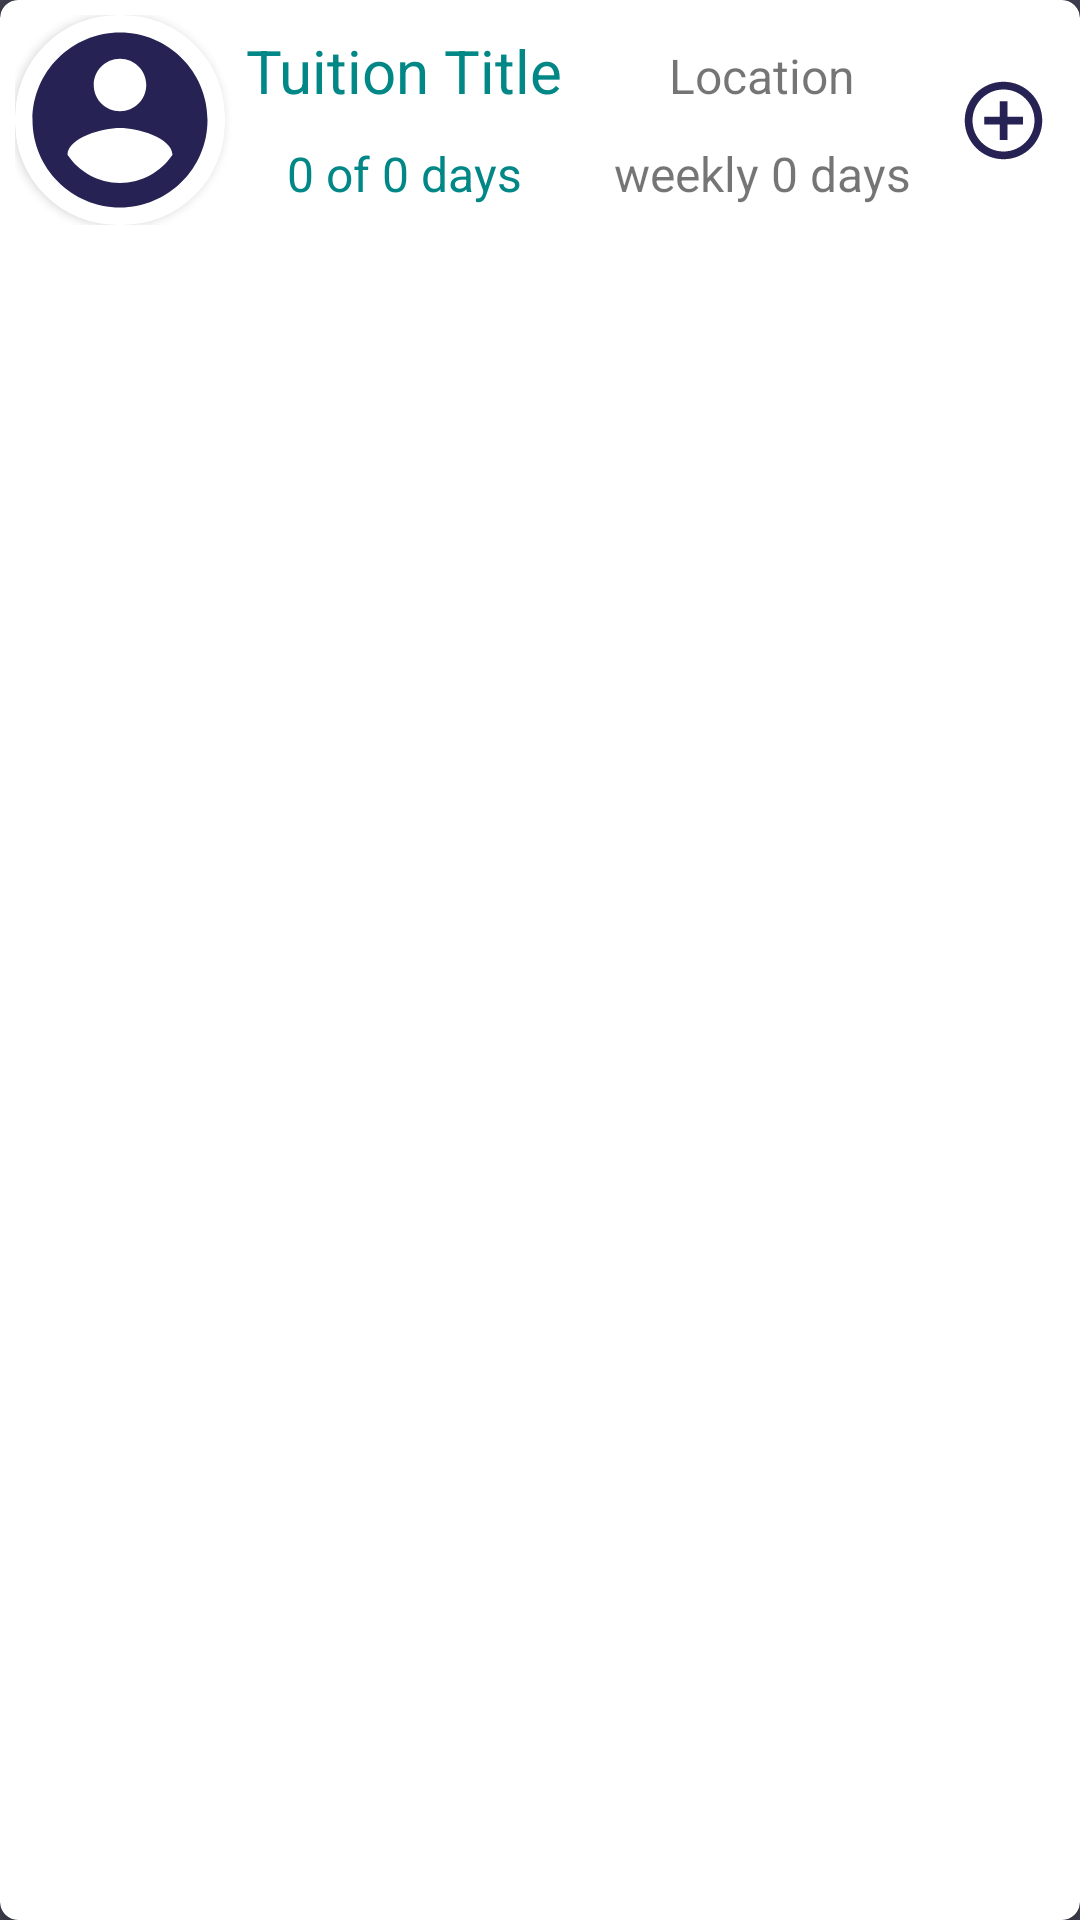

Where icons sit on this 1080x1920 app screen, as (x1, y1, x2, y2):
account circle: (15, 32, 208, 208)
add circle: (964, 81, 1043, 160)
